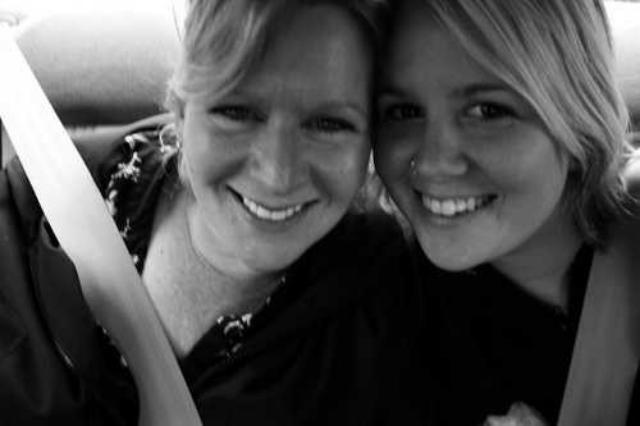SafeDriving: (451, 86, 530, 131), (289, 102, 365, 146), (198, 88, 268, 131), (378, 90, 433, 132)
Seatbelt: (0, 40, 208, 426), (551, 142, 639, 426)
